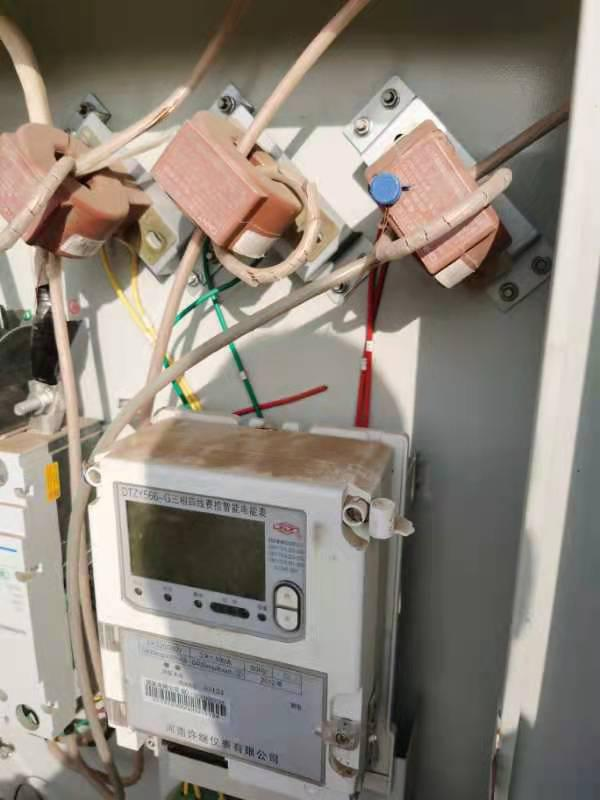digital: (93, 459, 366, 796)
